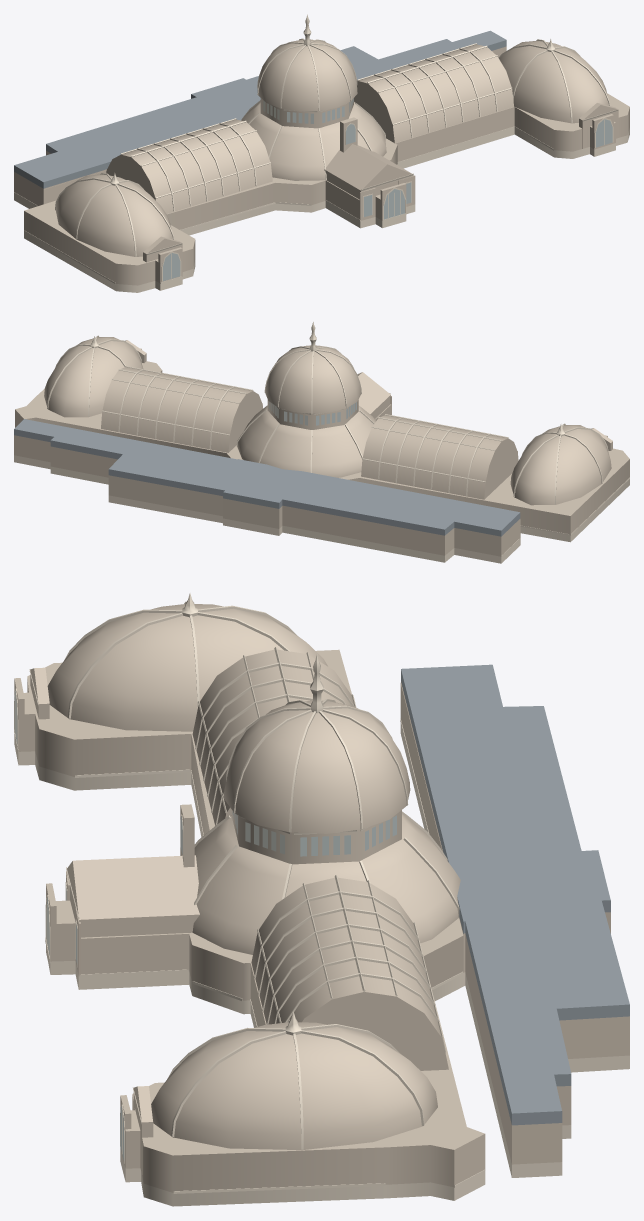
3 renders of one model, top to bottom at view 1: azimuth 30°, elevation 25°; view 2: azimuth 150°, elevation 25°; view 3: azimuth 270°, elevation 25°, orthographic. The views are drawn at different scales.
Visible parts, largest first — view 1: trim, stone, roof, window; view 2: trim, roof, stone, window; view 3: trim, roof, stone, window.
Boxes of the visible parts, bbox=[...] form: trim: bbox=[14, 39, 629, 285]; stone: bbox=[14, 14, 629, 292]; roof: bbox=[14, 30, 506, 188]; window: bbox=[163, 98, 612, 281]; trim: bbox=[14, 337, 629, 556]; roof: bbox=[14, 419, 520, 536]; stone: bbox=[14, 322, 629, 563]; window: bbox=[269, 402, 356, 425]; trim: bbox=[14, 604, 629, 1192]; roof: bbox=[401, 664, 629, 1125]; stone: bbox=[14, 593, 629, 1206]; window: bbox=[14, 690, 396, 1160].
Size of the model in its own units: 75.63 by 20.73 by 38.91.
